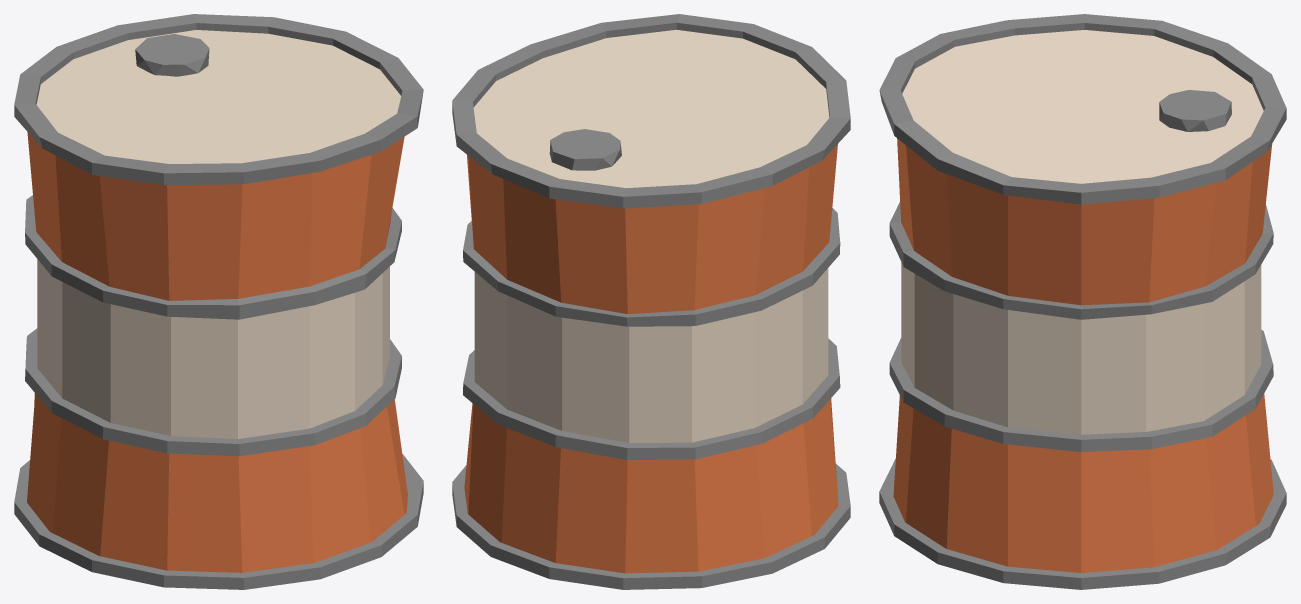
Rendered from Barrel_3_4.fbx.
3 views of the same model, side by side, from view 1: azimuth 30°, elevation 25°; view 2: azimuth 150°, elevation 25°; view 3: azimuth 270°, elevation 25° (orthographic). The views are drawn at different scales.
Visible parts, largest first — view 1: Barrel_3_4; view 2: Barrel_3_4; view 3: Barrel_3_4.
Part boxes in pixels (x1=…): Barrel_3_4: x1=14, y1=14, x2=423, y2=589; Barrel_3_4: x1=452, y1=14, x2=850, y2=589; Barrel_3_4: x1=879, y1=14, x2=1286, y2=589.
Size of the model in its own units: 78.54 by 87.95 by 78.54.
